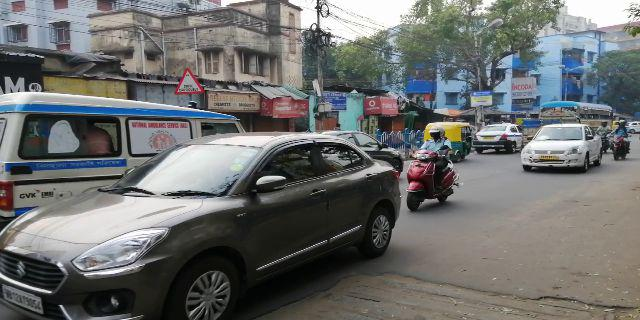Car: (1, 131, 399, 320), (1, 90, 246, 222), (520, 125, 604, 171), (475, 121, 519, 153)
Motorbike: (407, 151, 460, 206)
